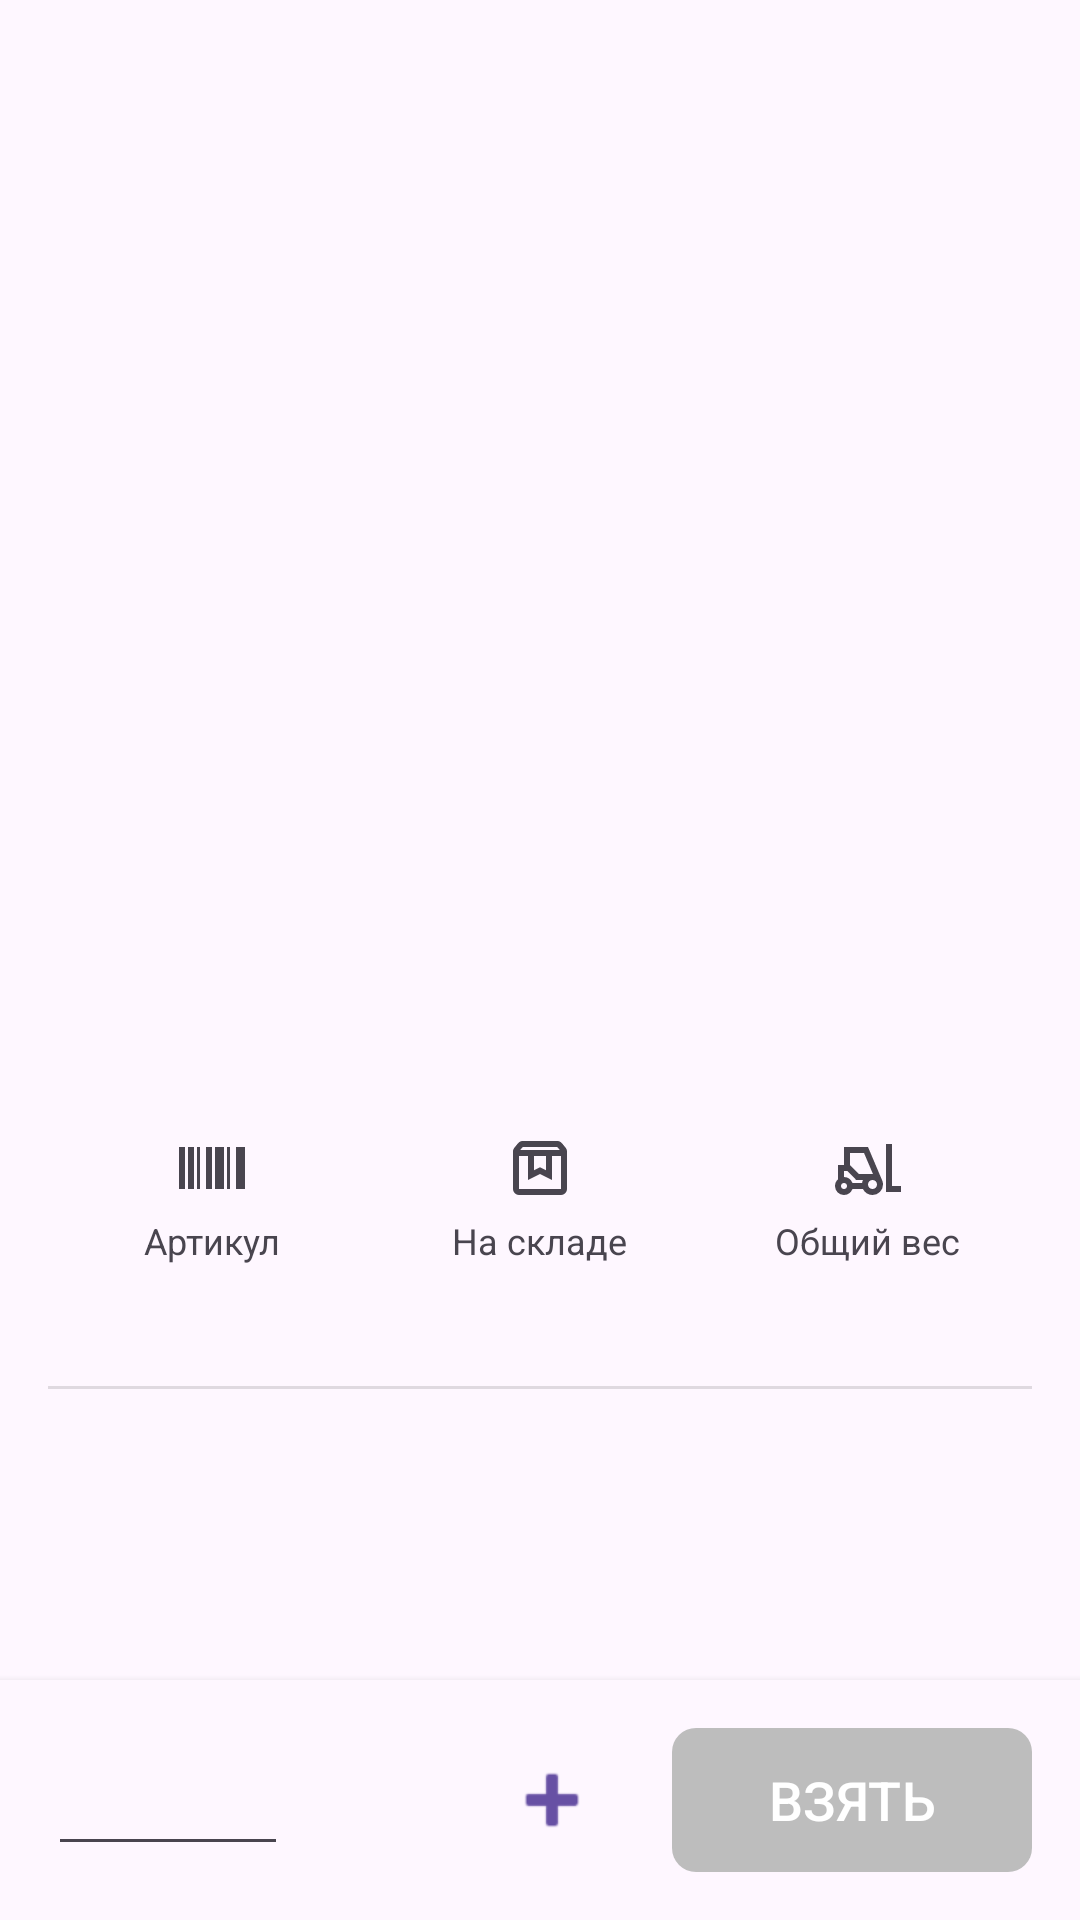

Where to tap for icons on this 1080×1920 app screen, as point (x, y):
add: point (552, 1800)
barcode: point (212, 1168)
